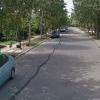Tree: (70, 0, 100, 42)
